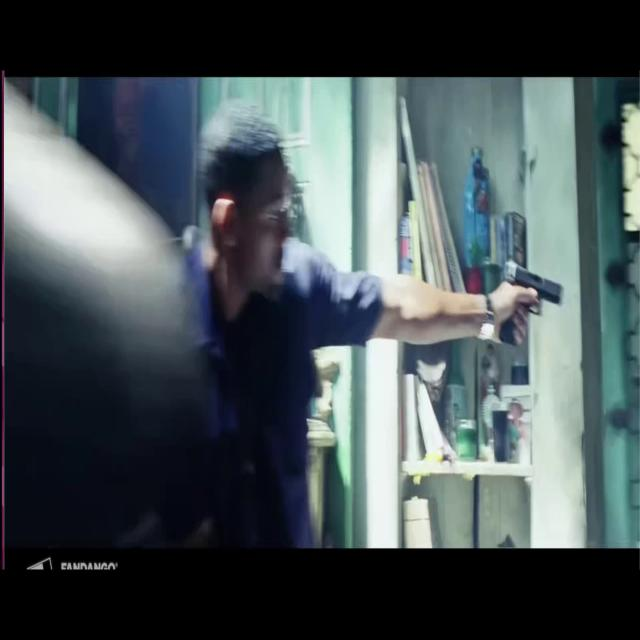weapons: (486, 246, 569, 358)
